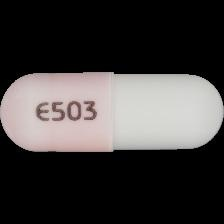50268-796: (0, 0, 224, 224)
